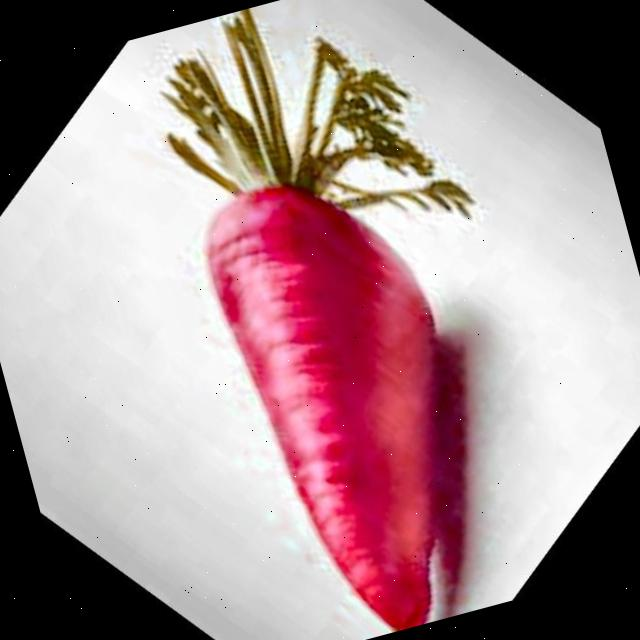carrot: (165, 10, 471, 631)
